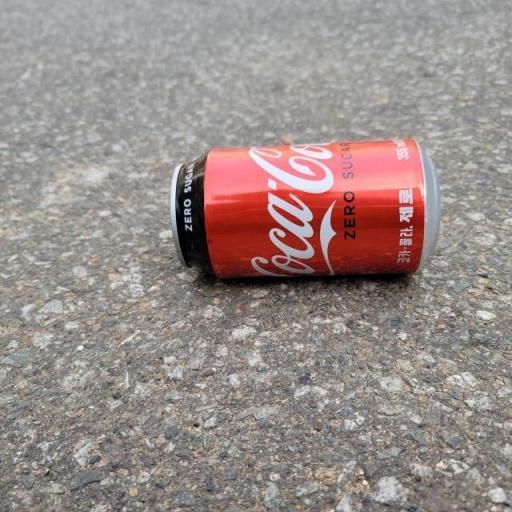metal: (136, 125, 458, 324)
